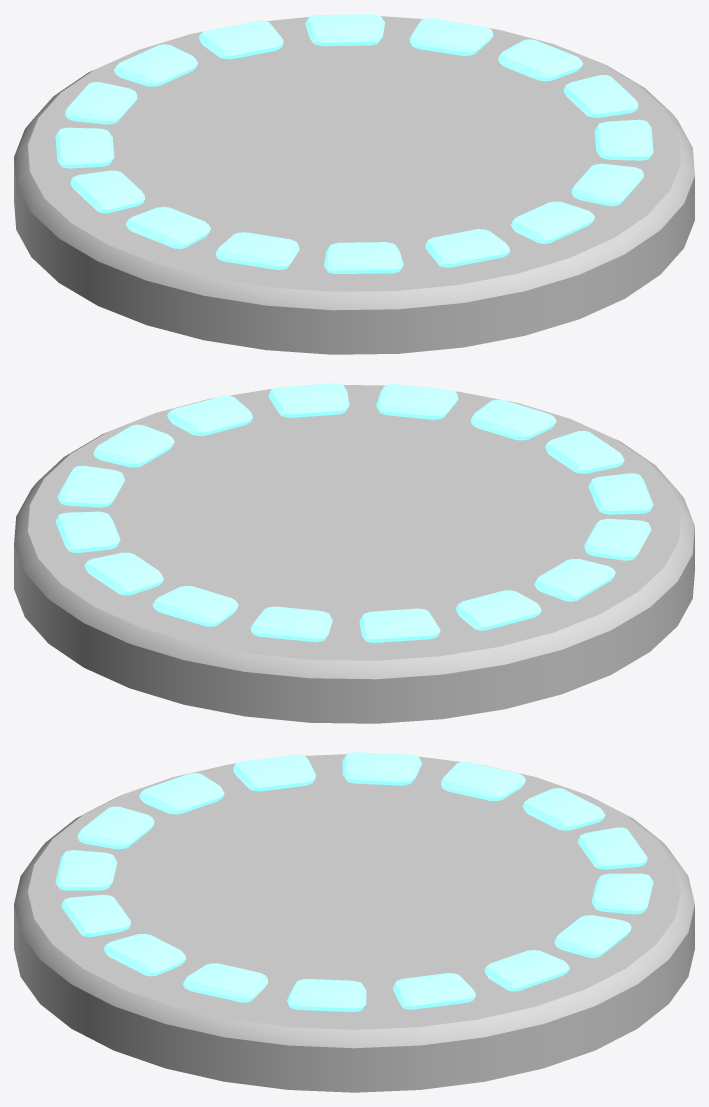
The model's file is Tourelle_Emplacement.fbx.
3 renders of one model, top to bottom at view 1: azimuth 30°, elevation 25°; view 2: azimuth 150°, elevation 25°; view 3: azimuth 270°, elevation 25°, orthographic.
Visible parts, largest first — view 1: Socle, Circle.007, Circle, Circle.008, Circle.006, Circle.014, Circle.015, Circle.013, Circle.005, Circle.001, Circle.009, Circle.012 (+5 smaller); view 2: Socle, Circle.008, Circle.003, Circle.011, Circle, Circle.002, Circle.009, Circle.010, Circle.001, Circle.012, Circle.004, Circle.015 (+5 smaller); view 3: Socle, Circle.004, Circle.011, Circle.012, Circle.014, Circle.006, Circle.013, Circle.005, Circle.003, Circle.002, Circle.010, Circle.007 (+5 smaller).
Part boxes in pixels (x1=…): Socle: x1=14, y1=16, x2=694, y2=354; Circle.007: x1=324, y1=242, x2=403, y2=273; Circle: x1=198, y1=20, x2=283, y2=59; Circle.008: x1=425, y1=229, x2=509, y2=267; Circle.006: x1=215, y1=232, x2=299, y2=269; Circle.014: x1=409, y1=18, x2=493, y2=55; Circle.015: x1=305, y1=14, x2=384, y2=46; Circle.013: x1=498, y1=39, x2=582, y2=81; Circle.005: x1=125, y1=207, x2=210, y2=248; Circle.001: x1=114, y1=44, x2=197, y2=86; Circle.009: x1=511, y1=201, x2=594, y2=243; Circle.012: x1=563, y1=75, x2=638, y2=117; Socle: x1=14, y1=385, x2=694, y2=723; Circle.008: x1=470, y1=399, x2=556, y2=440; Circle.003: x1=456, y1=590, x2=541, y2=630; Circle.011: x1=167, y1=395, x2=252, y2=435; Circle: x1=152, y1=586, x2=238, y2=626; Circle.002: x1=359, y1=608, x2=440, y2=642; Circle.009: x1=376, y1=384, x2=458, y2=419; Circle.010: x1=268, y1=383, x2=349, y2=417; Circle.001: x1=250, y1=606, x2=332, y2=642; Circle.012: x1=93, y1=424, x2=174, y2=467; Circle.004: x1=534, y1=559, x2=615, y2=601; Circle.015: x1=84, y1=552, x2=163, y2=595; Socle: x1=14, y1=754, x2=694, y2=1092; Circle.004: x1=342, y1=752, x2=422, y2=785; Circle.011: x1=183, y1=963, x2=267, y2=1002; Circle.012: x1=287, y1=979, x2=366, y2=1012; Circle.014: x1=484, y1=950, x2=569, y2=991; Circle.006: x1=139, y1=773, x2=224, y2=814; Circle.013: x1=392, y1=973, x2=475, y2=1009; Circle.005: x1=233, y1=754, x2=316, y2=791; Circle.003: x1=441, y1=761, x2=525, y2=800; Circle.002: x1=522, y1=788, x2=605, y2=830; Circle.010: x1=103, y1=933, x2=186, y2=976; Circle.007: x1=77, y1=806, x2=154, y2=849.
Bounding box in the file's own units: 210 × 25.02 × 210.
